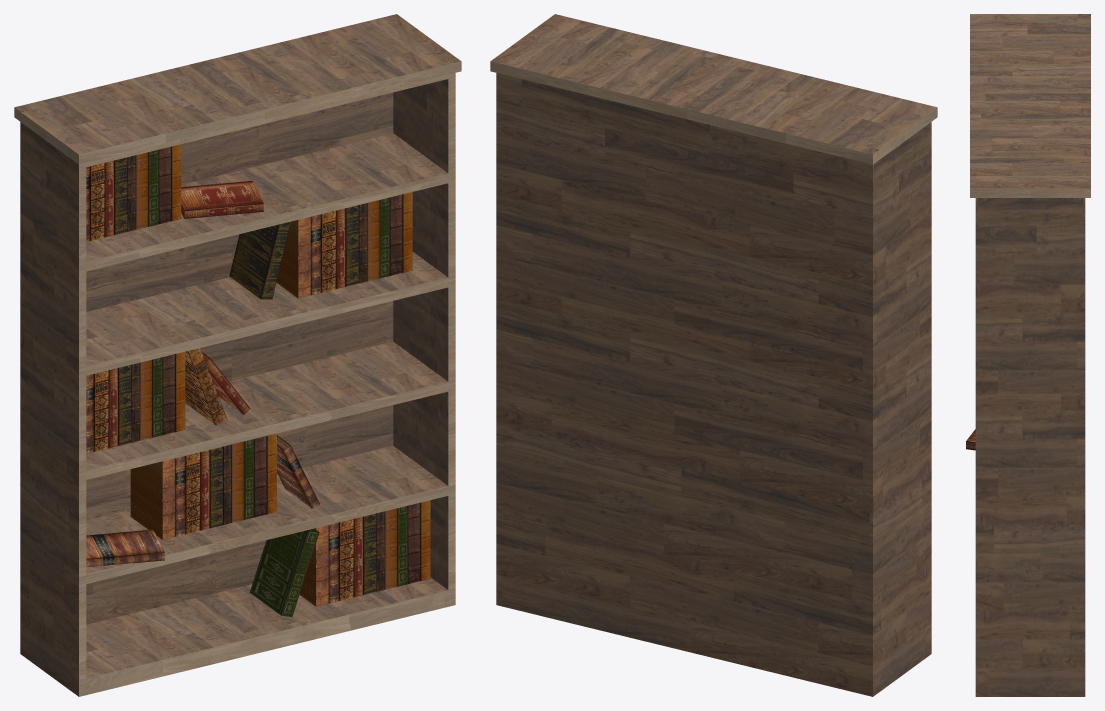
3 renders of one model, left to right at view 1: azimuth 30°, elevation 25°; view 2: azimuth 150°, elevation 25°; view 3: azimuth 270°, elevation 25°, orthographic. The views are drawn at different scales.
Visible parts, largest first — view 1: Geode (×13); view 2: Geode; view 3: Geode.
Part boxes in pixels (bbox=[...]): Geode (×13): bbox=[14, 14, 461, 696]; Geode: bbox=[490, 14, 937, 696]; Geode: bbox=[970, 14, 1090, 696].
Size of the model in its own units: 30.74 by 41.87 by 9.29.
Materials: 3 (3 with a texture image).
